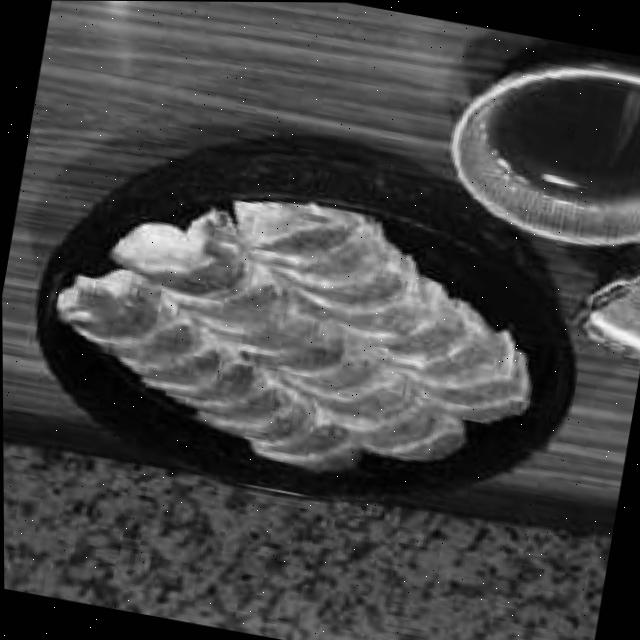带馅早点: (33, 125, 566, 534)
